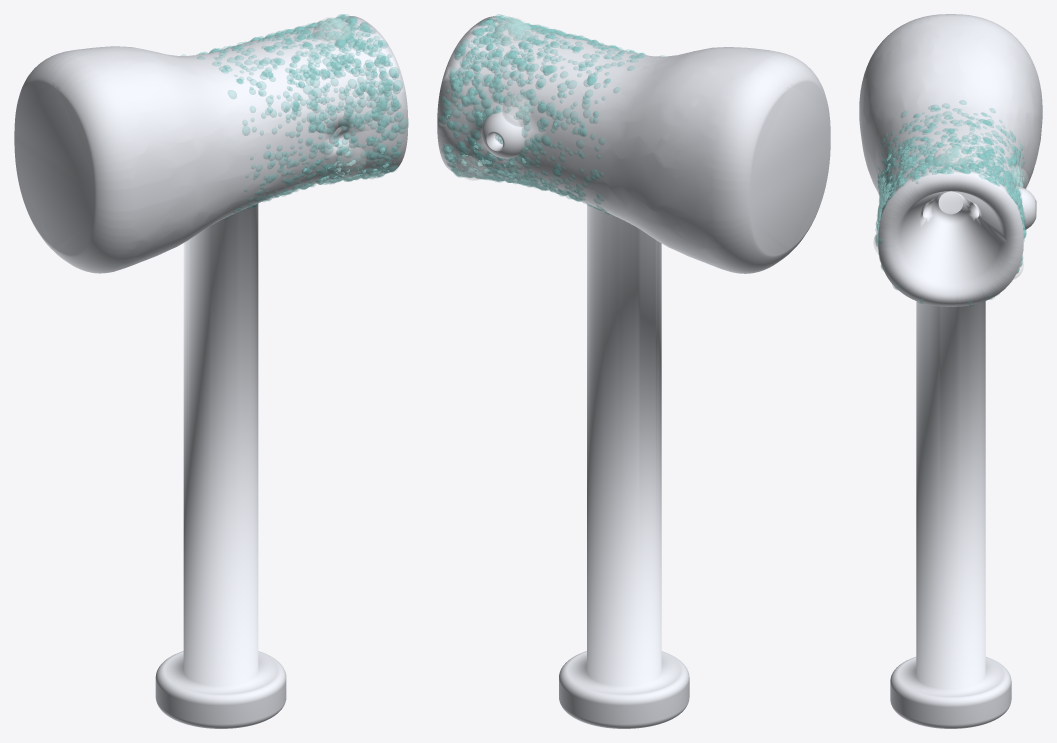
File: hammer_clear_silver.glb
3 views of the same model, side by side, from view 1: azimuth 30°, elevation 25°; view 2: azimuth 150°, elevation 25°; view 3: azimuth 270°, elevation 25° (orthographic). The views are drawn at different scales.
Parts seen in each view (by area): view 1: body, frit, marbles; view 2: body, frit, marbles; view 3: body, frit, marbles.
Boxes of the visible parts, bbox=[...] form: body: bbox=[14, 16, 408, 728]; frit: bbox=[181, 14, 408, 219]; marbles: bbox=[313, 17, 366, 177]; body: bbox=[437, 16, 830, 728]; frit: bbox=[438, 14, 664, 214]; marbles: bbox=[456, 17, 532, 180]; body: bbox=[859, 14, 1042, 728]; frit: bbox=[875, 100, 1026, 307]; marbles: bbox=[873, 144, 1028, 279].
Bounding box in the file's own units: 0.0682 × 0.1398 × 0.0371.
